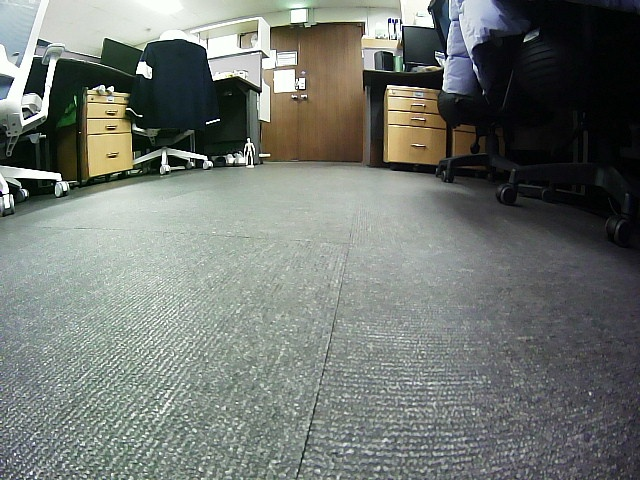person: (244, 136, 255, 165)
